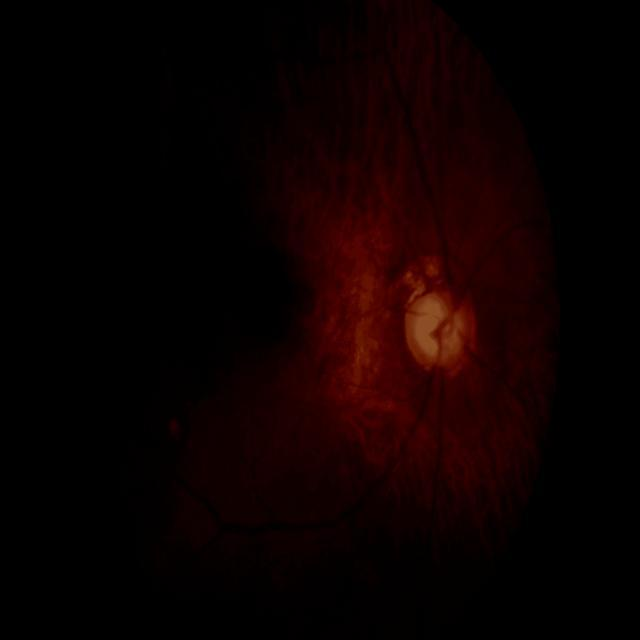cup: (412, 293, 464, 364)
disk: (402, 285, 478, 381)
